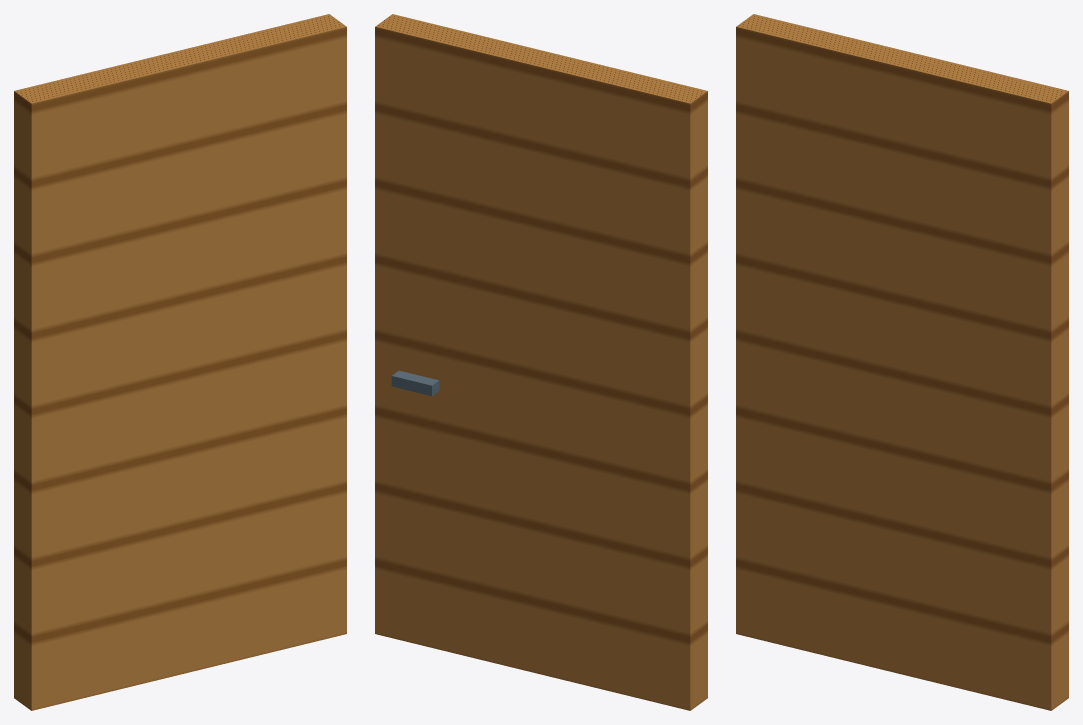
Rendered from door.glb.
3 views of the same model, side by side, from view 1: azimuth 30°, elevation 25°; view 2: azimuth 150°, elevation 25°; view 3: azimuth 330°, elevation 25° (orthographic).
Visible parts, largest first — view 1: Door; view 2: Door, Handle; view 3: Door.
Boxes of the visible parts, box(x1,y1,x2,y2) form: Door: box(14, 14, 346, 710); Door: box(375, 14, 707, 710); Handle: box(391, 370, 439, 396); Door: box(736, 14, 1068, 710).
Bounding box in the file's own units: 1.25 × 2.3 × 0.17.
Materials: 2 (1 with a texture image).
